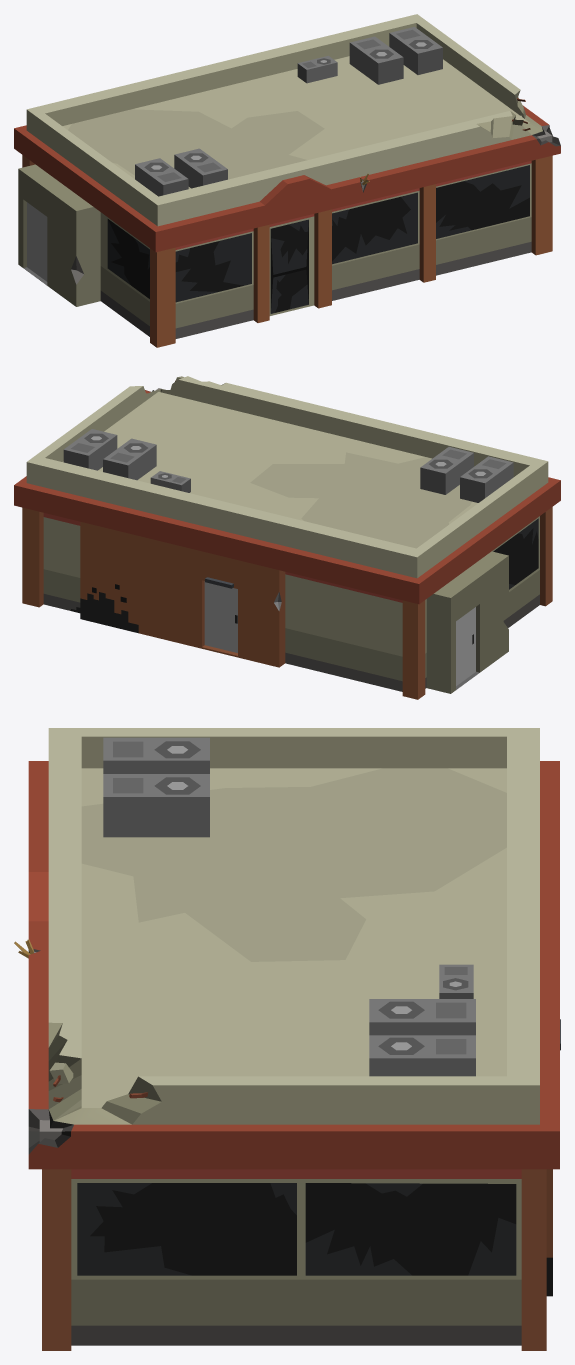
File: SA_Bld_ShopOld_Damaged_01.glb
3 views of the same model, one above another, from view 1: azimuth 30°, elevation 25°; view 2: azimuth 150°, elevation 25°; view 3: azimuth 270°, elevation 25° (orthographic). The views are drawn at different scales.
Visible parts, largest first — view 1: SA_Bld_ShopOld_Damaged_01; view 2: SA_Bld_ShopOld_Damaged_01; view 3: SA_Bld_ShopOld_Damaged_01.
Part boxes in pixels (x1,y1,x2,y2): SA_Bld_ShopOld_Damaged_01: (14, 14, 560, 347); SA_Bld_ShopOld_Damaged_01: (14, 376, 560, 699); SA_Bld_ShopOld_Damaged_01: (14, 728, 560, 1350).
Size of the model in its own units: 9.74 by 3.23 by 5.88.
1 material, 1 textured.
